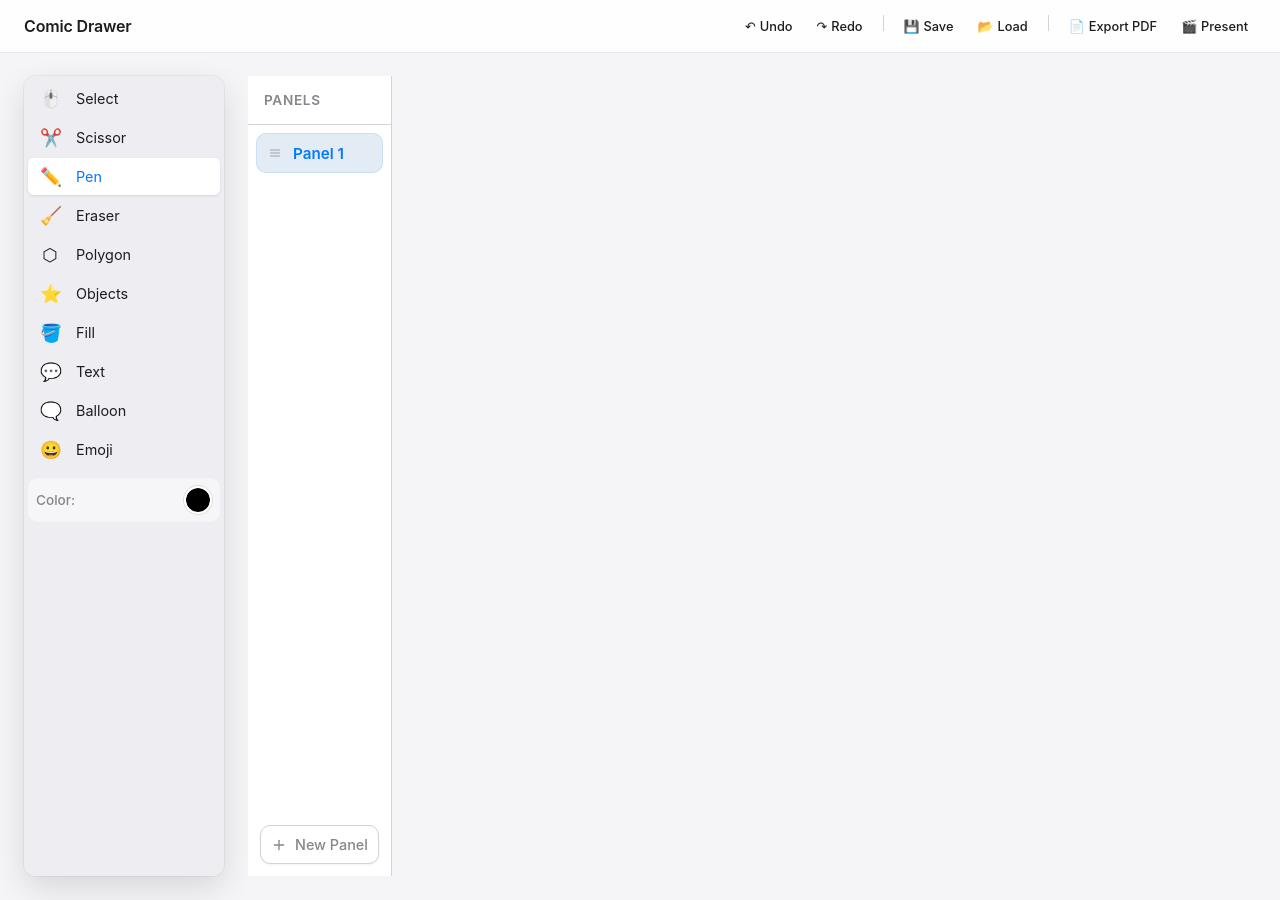
App › shows the sides chooser when the polygon tool is clicked
Click the text "Polygon" at (104, 254), box top-left (76, 246), bottom-right (131, 263)
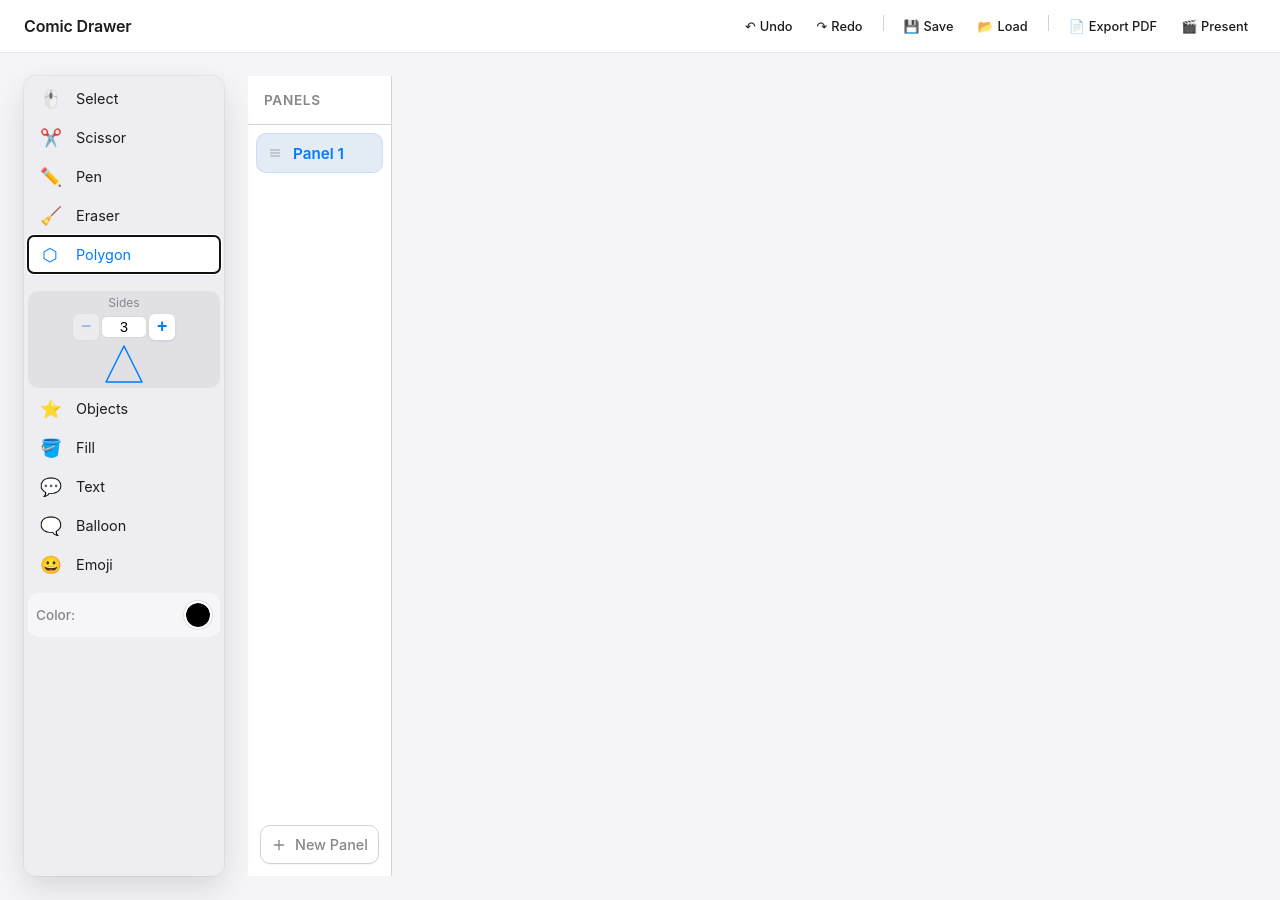
Expected: the number field named "Number of sides" holds "3", top-left (101, 316), bottom-right (147, 338)
